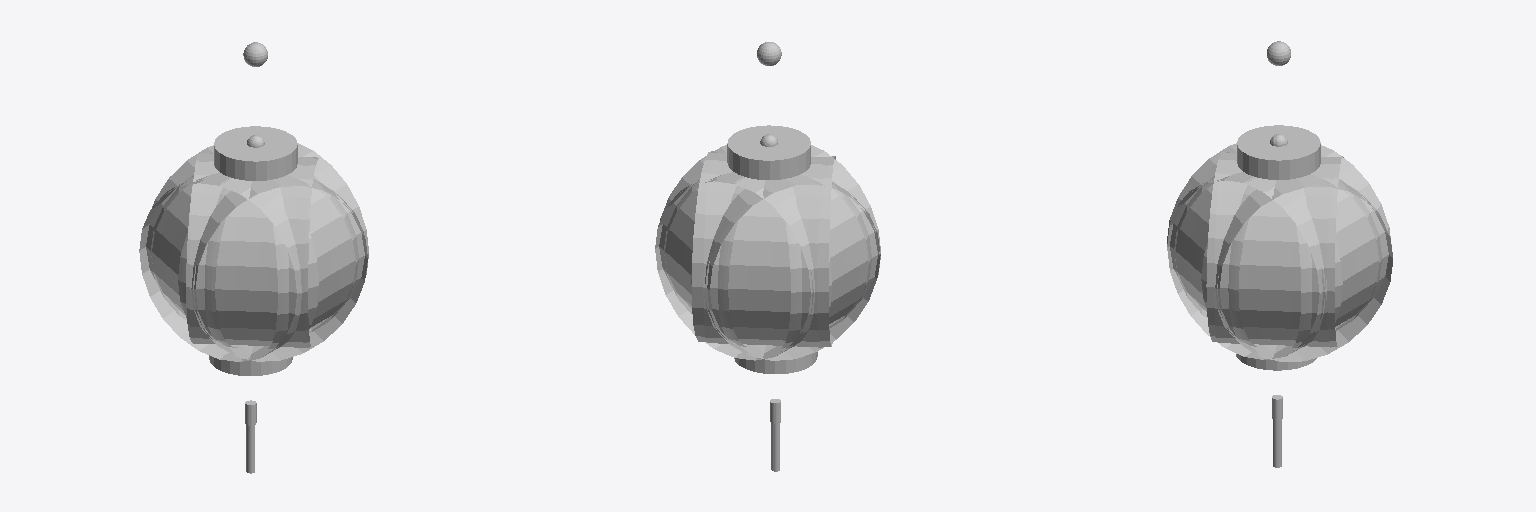
The model's file is lantern.006.obj.
3 views of the same model, side by side, from view 1: azimuth 30°, elevation 25°; view 2: azimuth 150°, elevation 25°; view 3: azimuth 270°, elevation 25° (orthographic).
Visible parts, largest first — view 1: lantern.006_3d-model.006; view 2: lantern.006_3d-model.006; view 3: lantern.006_3d-model.006.
Boxes of the visible parts, box(x1,y1,x2,y2) form: lantern.006_3d-model.006: box(139, 42, 368, 473); lantern.006_3d-model.006: box(655, 42, 880, 471); lantern.006_3d-model.006: box(1167, 41, 1392, 467).
Bounding box in the file's own units: 0.2315 × 0.5187 × 0.2502.